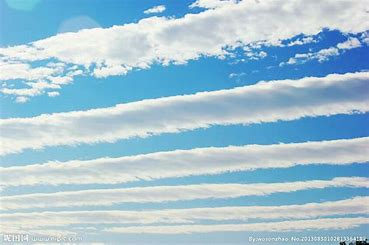Stratus: (1, 73, 369, 143), (2, 2, 369, 67), (2, 138, 369, 179), (2, 176, 369, 205), (3, 199, 369, 224)
